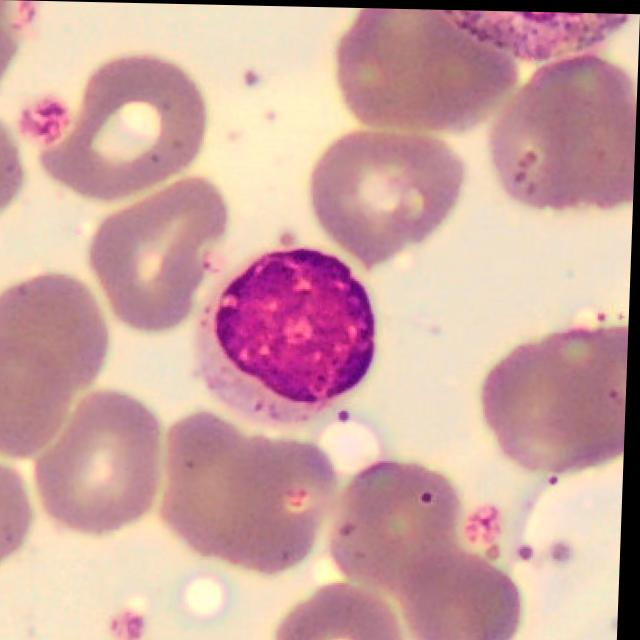Linfocito: (205, 246, 381, 418)
